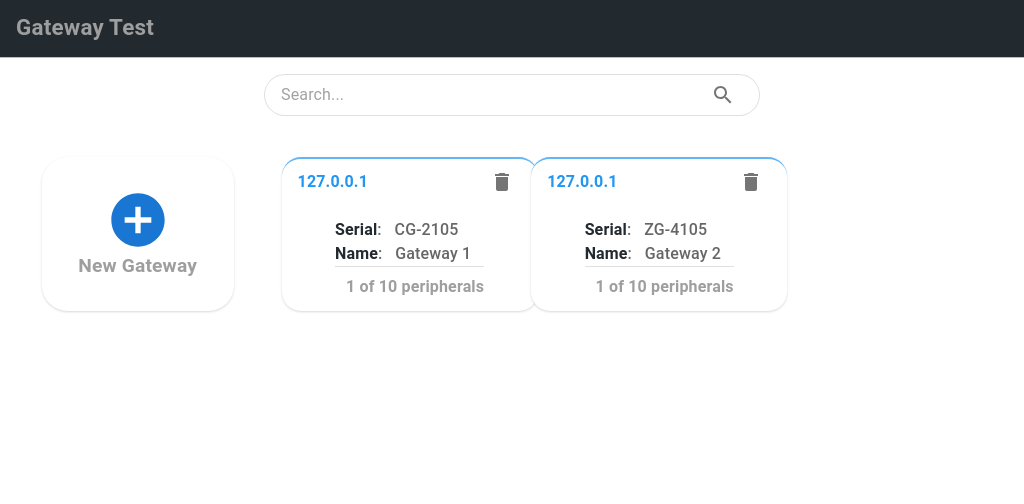
<Dashboard /> › Click New Gateway button
Step 1. Click the button with test id "newGatewayBtn" → (138,234), box [42,157,234,311]
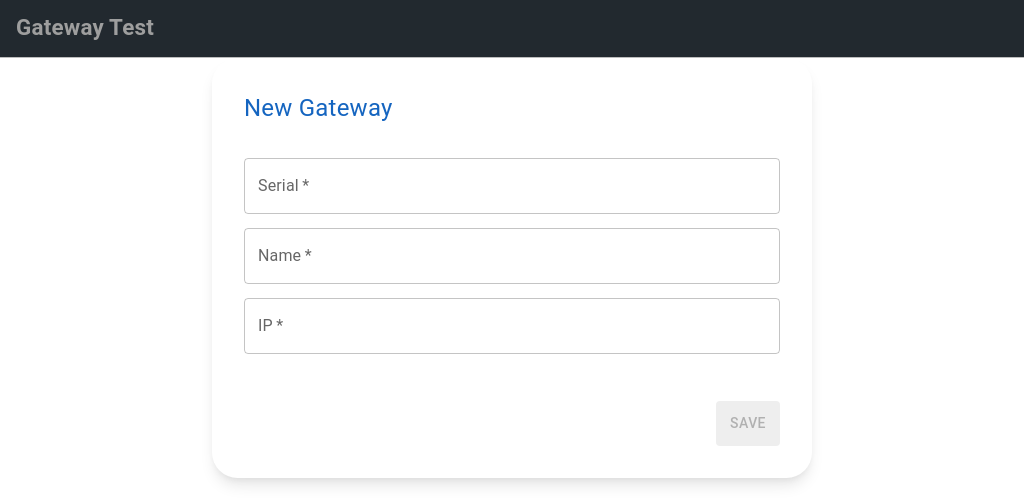
Expected: the text with test id "newGatewayFormTitle" reads "New Gateway", [244,94,393,122]
Now the button with test id "saveBtn" is disabled, box [716,401,780,446]
